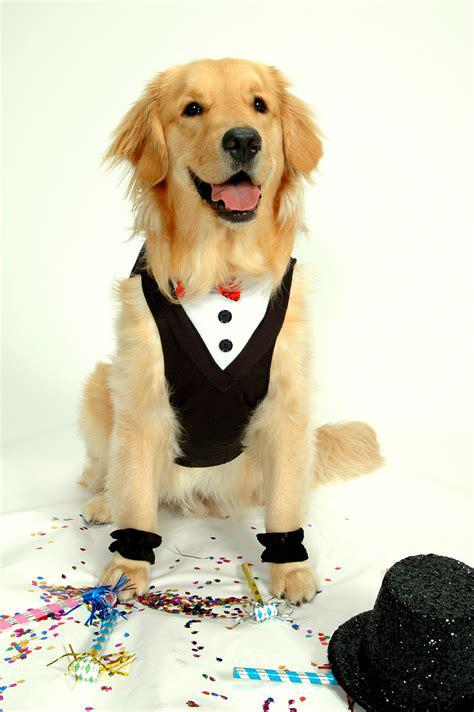dog: (82, 59, 377, 600)
